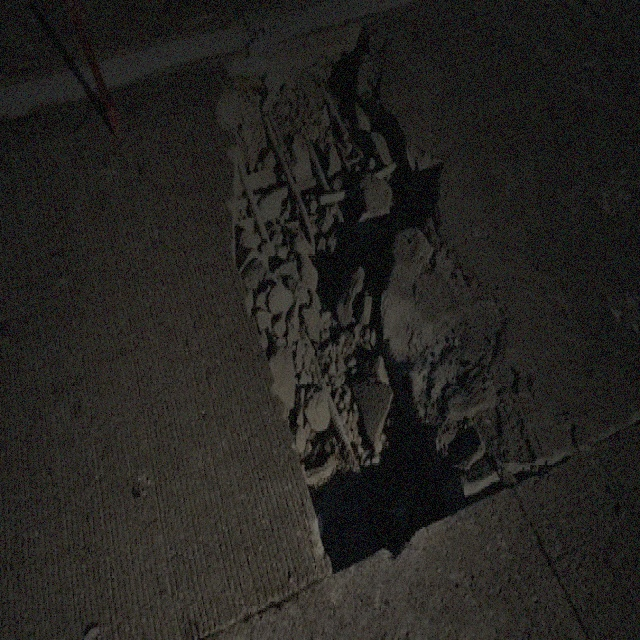pothole: (220, 15, 478, 580)
